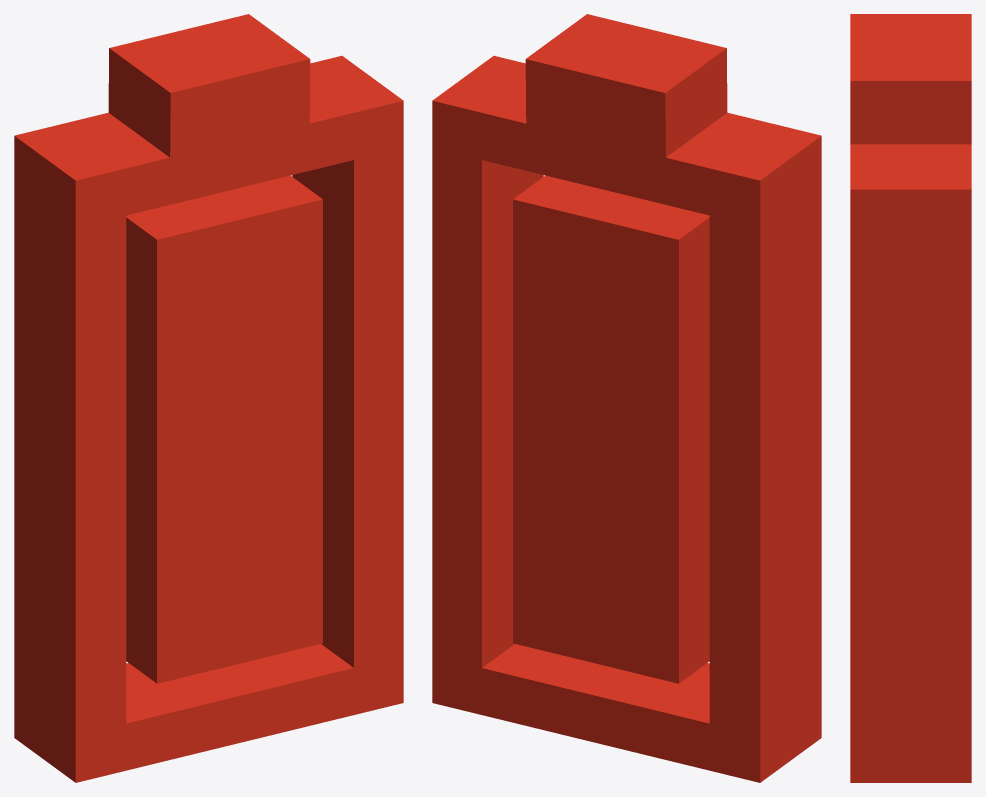
File: Icon_Battery_04.fbx
3 views of the same model, side by side, from view 1: azimuth 30°, elevation 25°; view 2: azimuth 150°, elevation 25°; view 3: azimuth 270°, elevation 25° (orthographic).
Visible parts, largest first — view 1: Icon_Battery_04; view 2: Icon_Battery_04; view 3: Icon_Battery_04.
Boxes of the visible parts, x1,y1,x2,y2 form: Icon_Battery_04: (14,14,403,782); Icon_Battery_04: (432,14,821,782); Icon_Battery_04: (850,14,971,782).
Bounding box in the file's own units: 37.11 × 72.1 × 12.06.
